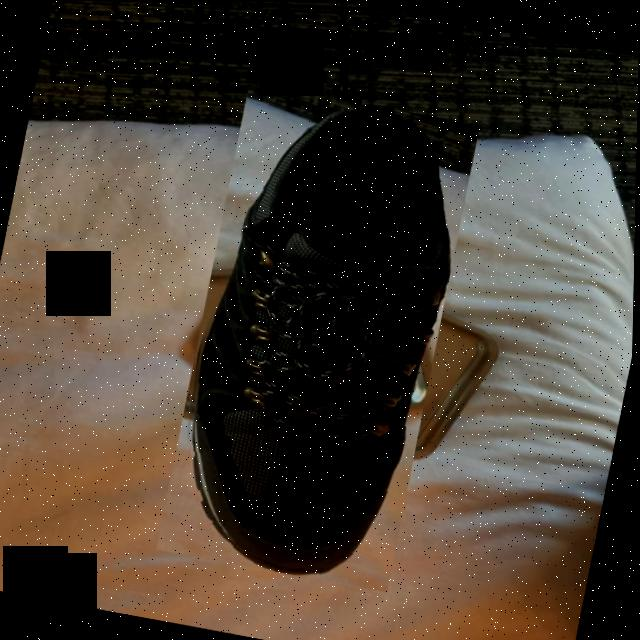shoe: (158, 81, 481, 592)
